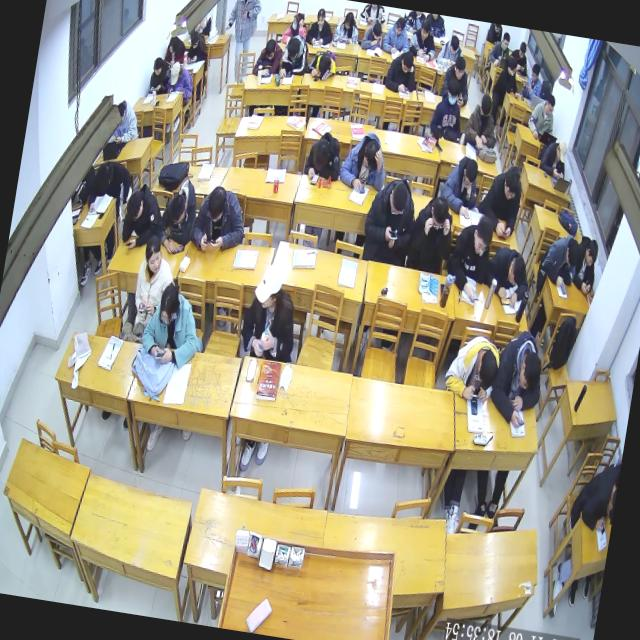bow: (486, 325, 550, 431), (438, 328, 503, 404), (152, 174, 202, 260), (337, 126, 394, 196), (116, 178, 166, 255), (481, 240, 534, 312), (534, 228, 584, 294), (86, 154, 136, 218), (301, 126, 347, 186), (252, 33, 286, 80), (306, 46, 339, 84), (436, 32, 465, 72), (360, 17, 386, 54)
down: (566, 457, 622, 535), (516, 348, 546, 398), (154, 281, 183, 332), (472, 346, 500, 394), (469, 213, 497, 260), (426, 192, 454, 236), (384, 177, 412, 220), (204, 182, 231, 226), (164, 190, 190, 233), (308, 134, 334, 174), (504, 252, 528, 292), (500, 163, 523, 204), (359, 135, 383, 174), (124, 187, 148, 225), (92, 158, 116, 194), (459, 155, 481, 193), (562, 236, 582, 270), (582, 238, 602, 270), (478, 90, 496, 124), (284, 34, 304, 64), (444, 78, 462, 109), (542, 91, 560, 121), (451, 54, 468, 85), (112, 98, 128, 130), (398, 48, 416, 76), (316, 51, 334, 78), (553, 138, 570, 165), (167, 60, 183, 88), (262, 36, 279, 62), (418, 16, 433, 43), (447, 32, 462, 58), (342, 8, 356, 32), (370, 20, 384, 44), (392, 14, 406, 38), (528, 62, 542, 86), (315, 5, 328, 28), (167, 34, 180, 56), (188, 28, 201, 50), (500, 31, 513, 52), (152, 56, 164, 78), (517, 40, 529, 61)
sit: (236, 257, 307, 365), (136, 278, 208, 372), (358, 172, 422, 272), (402, 188, 460, 284), (128, 232, 180, 338), (186, 177, 252, 259), (444, 211, 496, 306), (476, 159, 528, 243), (437, 151, 485, 221), (427, 74, 471, 146), (461, 88, 505, 156), (382, 43, 422, 97), (568, 236, 602, 298), (439, 51, 476, 107), (277, 27, 313, 83), (524, 88, 560, 143), (108, 96, 144, 148), (407, 14, 441, 64), (380, 12, 413, 61), (537, 135, 572, 181), (494, 54, 525, 100), (305, 4, 338, 46), (164, 60, 196, 102), (518, 59, 546, 106), (148, 52, 175, 98), (280, 8, 310, 48), (332, 8, 362, 48), (184, 28, 210, 67), (488, 30, 514, 69), (163, 31, 188, 68), (508, 39, 532, 77)
